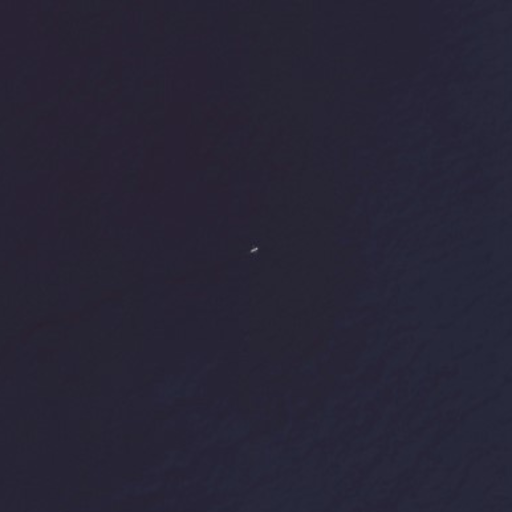ship: (246, 244, 261, 256)
